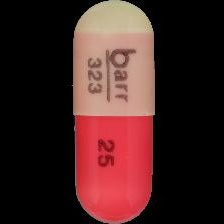67296-0152: (0, 0, 224, 224)
